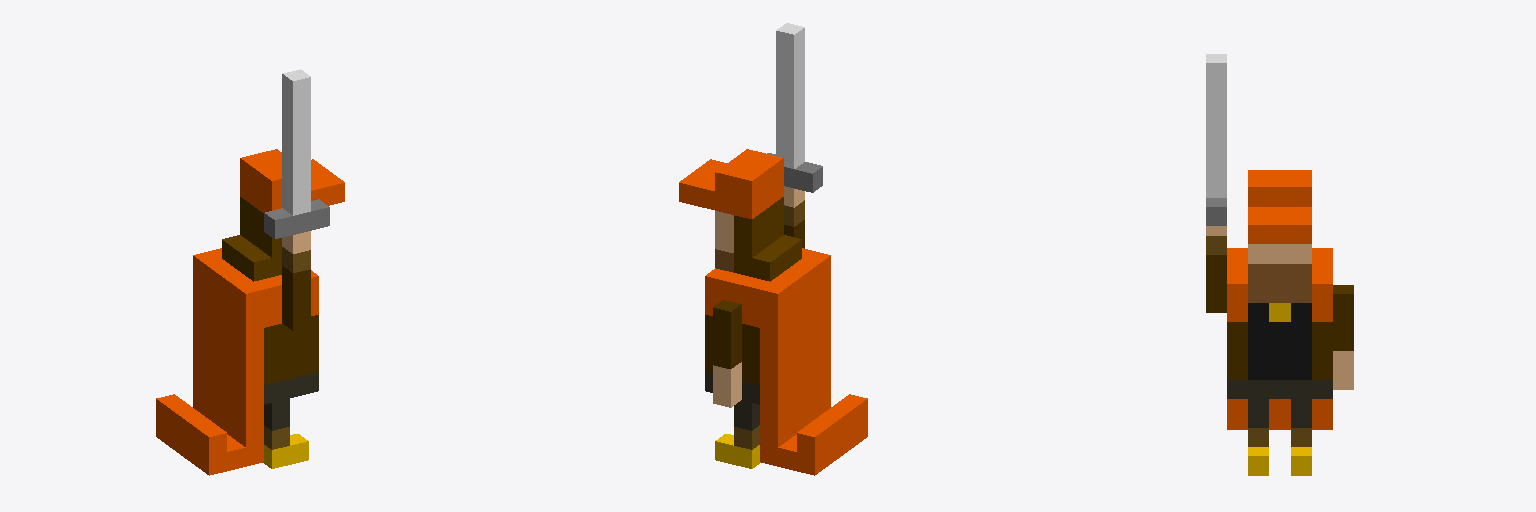
The picture shows the model from 3 angles: view 1: azimuth 30°, elevation 25°; view 2: azimuth 150°, elevation 25°; view 3: azimuth 270°, elevation 25°; orthographic projection.
Bounding box in the file's own units: 8 × 21 × 7.
1 materials, 1 textured.